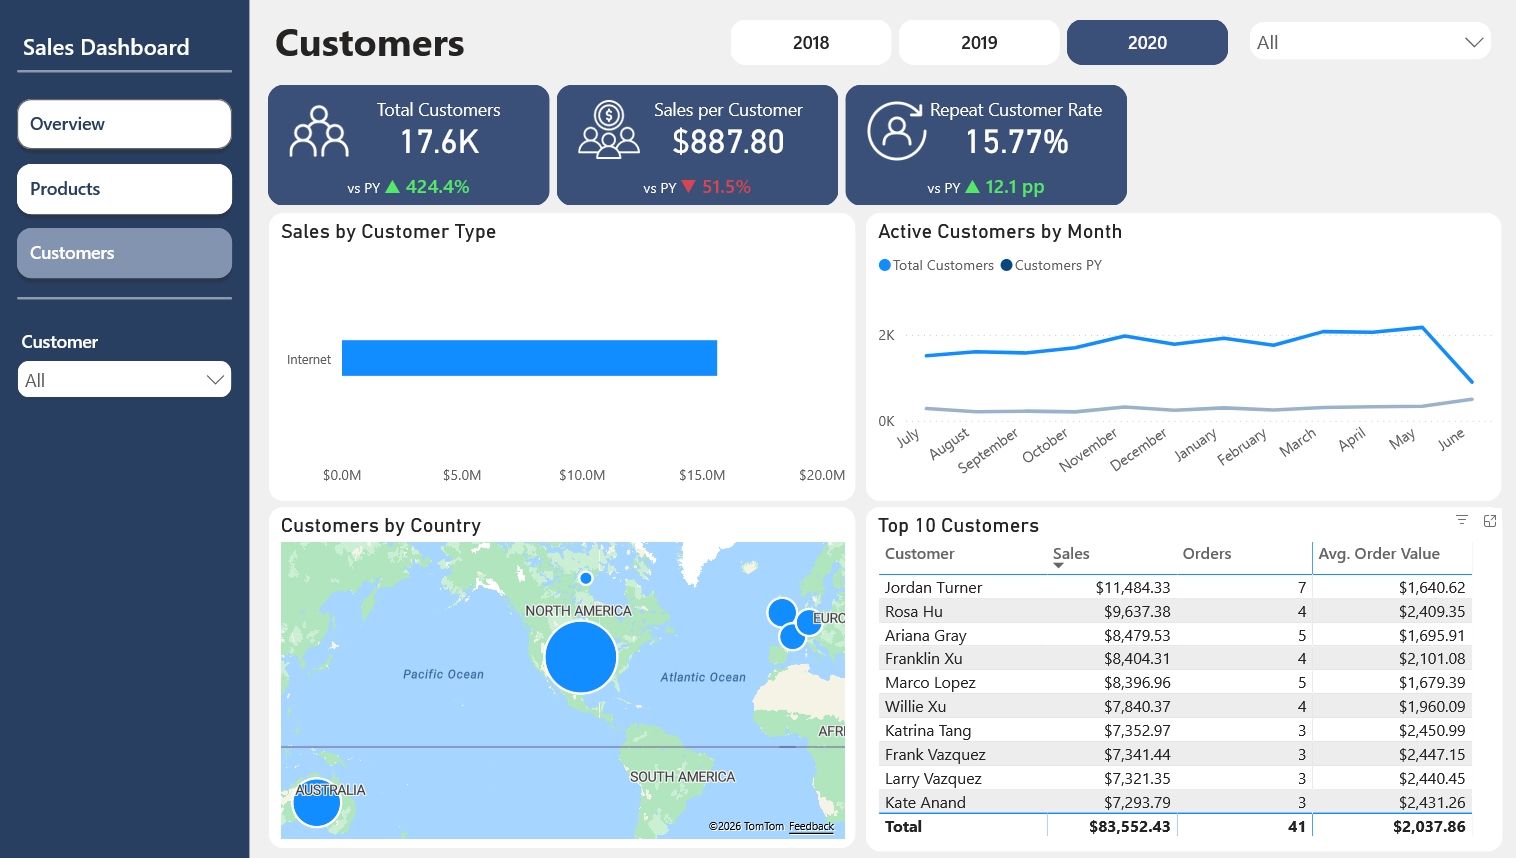

This screenshot's page, from the dashboard's own definition file:
{"tool":"powerbi","page":{"name":"Customers","canvas":[1280,720],"ordinal":2},"visuals":[{"type":"shape","box":[0,0,209.3,719.4],"z":0,"group":"g3"},{"type":"textbox","box":[225.2,6.5,169.2,52.5],"z":0},{"type":"slicer","fields":{"Values":["Customer.Customer"]},"box":[10.3,270.9,188.7,68.2],"z":0,"group":"g2"},{"type":"advancedSlicerVisual","fields":{"Values":["Date.Fiscal Year Display"]},"box":[603.9,8.2,432.5,52.6],"z":1000},{"type":"group","id":"g1","title":"Group 3","box":[14,20.6,180.3,235.4],"z":1000,"group":"g3"},{"type":"slicer","fields":{"Values":["Sales Territory.Country"]},"box":[1037.4,8.2,222.2,46.2],"z":2000},{"type":"group","id":"g2","title":"Group 2","box":[10.3,270.9,188.7,68.2],"z":2000,"group":"g3"},{"type":"cardVisual","fields":{"Data":["_Measures.Total Customers","_Measures.Sales per Customer","_Measures.Repeat Customer Rate"]},"box":[224.9,66.2,725.4,111.5],"z":3000},{"type":"actionButton","box":[14,136.5,180.3,42],"z":3000,"group":"g4"},{"type":"barChart","title":"Sales by Customer Type","fields":{"Category":["Sales Order.Channel"],"Y":["_Measures.Total Sales"]},"box":[225.2,178.5,491.4,241.1],"z":4000},{"type":"actionButton","box":[14,190.7,180.3,42],"z":4000,"group":"g4"},{"type":"lineChart","title":"Active Customers by Month","fields":{"Category":["Date.Month Display"],"Y":["_Measures.Total Customers","_Measures.Customers PY"]},"box":[726,178.5,532.6,241.1],"z":5000},{"type":"tableEx","title":"Top 10 Customers  ","fields":{"Values":["Customer.Customer","_Measures.Customer Sales","_Measures.Customer Orders","_Measures.Customer AOV"]},"box":[726,425.1,533.5,288.7],"z":6000},{"type":"azureMap","title":"Customers by Country","fields":{"Category":["Sales Territory.Country"],"Size":["_Measures.Total Customers"]},"box":[225.2,425.1,491.4,285.9],"z":7000},{"type":"group","id":"g3","title":"Group 4","box":[0,0,209.3,719.4],"z":8000},{"type":"group","id":"g4","title":"Group 1","box":[14,82.3,180.3,150.4],"z":9000,"group":"g1"},{"type":"shape","box":[14,53.3,180.3,12.1],"z":10000,"group":"g1"},{"type":"actionButton","box":[14,82.3,180.3,42],"z":11000,"group":"g4"},{"type":"shape","box":[14,243.9,180.3,12.1],"z":11000,"group":"g1"},{"type":"textbox","box":[14,20.6,180.3,39.2],"z":12000,"group":"g1"}]}

Visuals, with their boxes on the page's 1280x720 design canvas (x1, y1, x2, y2). These are canvas units, not pixel positions in the 1516x858 screenshot, which may show the page scaled, cropped or inside an application window:
shape: [0, 0, 209, 719]
textbox: [225, 6, 394, 59]
slicer - Customer.Customer: [10, 271, 199, 339]
advancedSlicerVisual - Date.Fiscal Year Display: [604, 8, 1036, 61]
"Group 3" group: [14, 21, 194, 256]
slicer - Sales Territory.Country: [1037, 8, 1260, 54]
"Group 2" group: [10, 271, 199, 339]
cardVisual - _Measures.Total Customers x _Measures.Sales per Customer: [225, 66, 950, 178]
actionButton: [14, 136, 194, 178]
"Sales by Customer Type" barChart: [225, 178, 717, 420]
actionButton: [14, 191, 194, 233]
"Active Customers by Month" lineChart: [726, 178, 1259, 420]
"Top 10 Customers  " tableEx: [726, 425, 1260, 714]
"Customers by Country" azureMap: [225, 425, 717, 711]
"Group 4" group: [0, 0, 209, 719]
"Group 1" group: [14, 82, 194, 233]
shape: [14, 53, 194, 65]
actionButton: [14, 82, 194, 124]
shape: [14, 244, 194, 256]
textbox: [14, 21, 194, 60]
